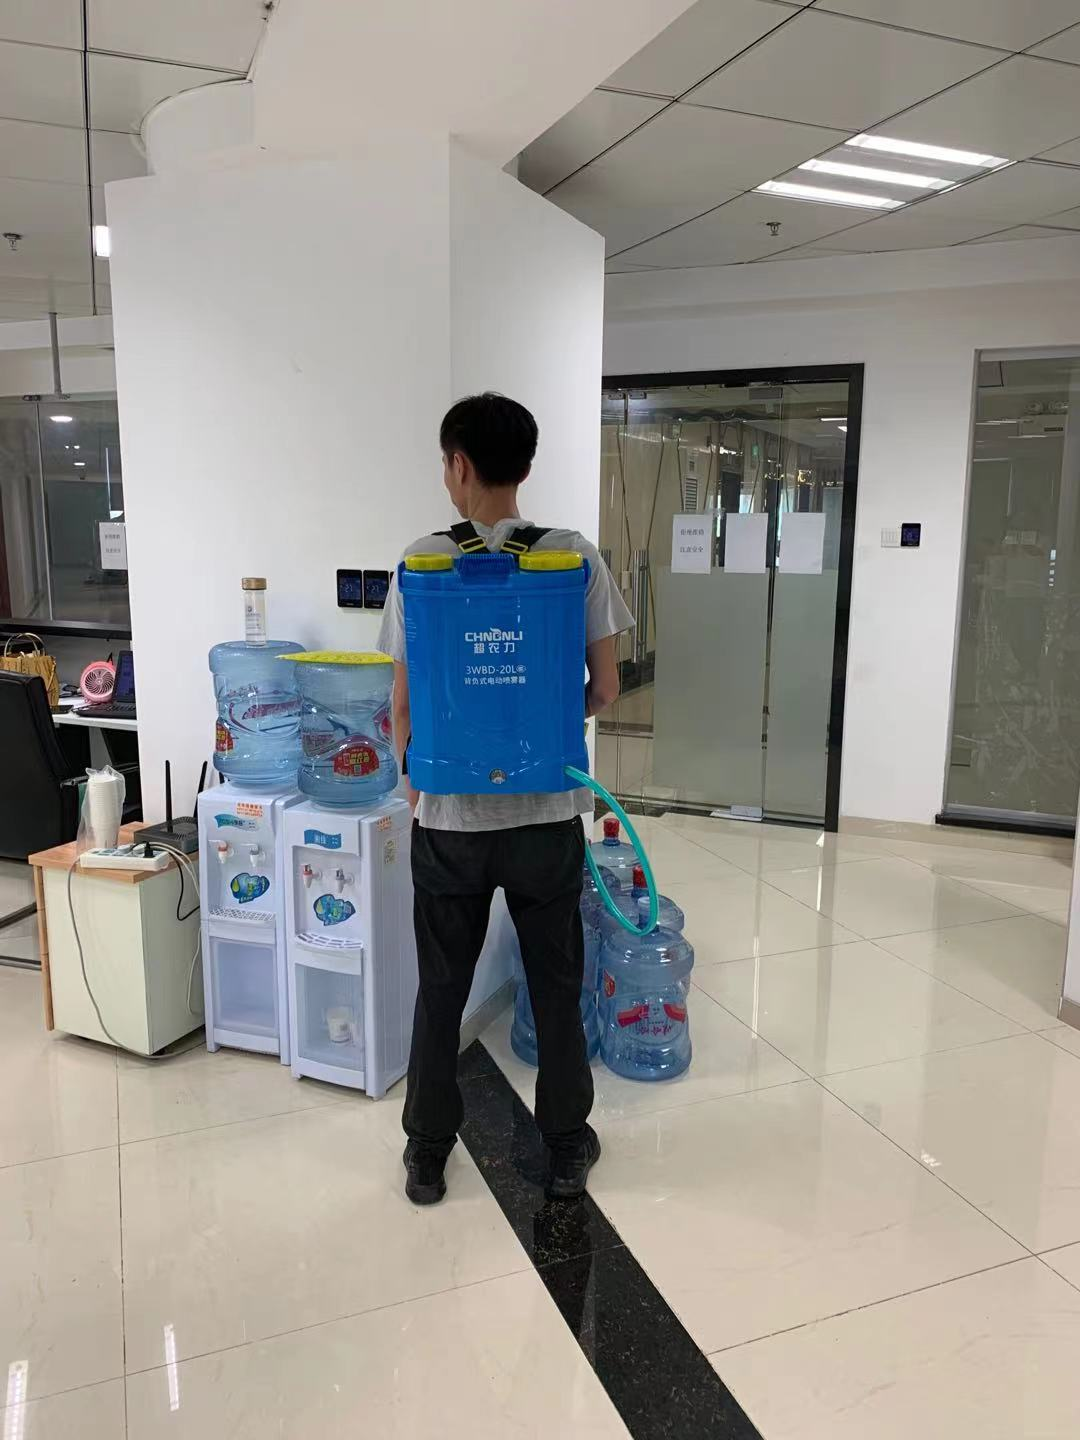berrl: (388, 545, 602, 799)
